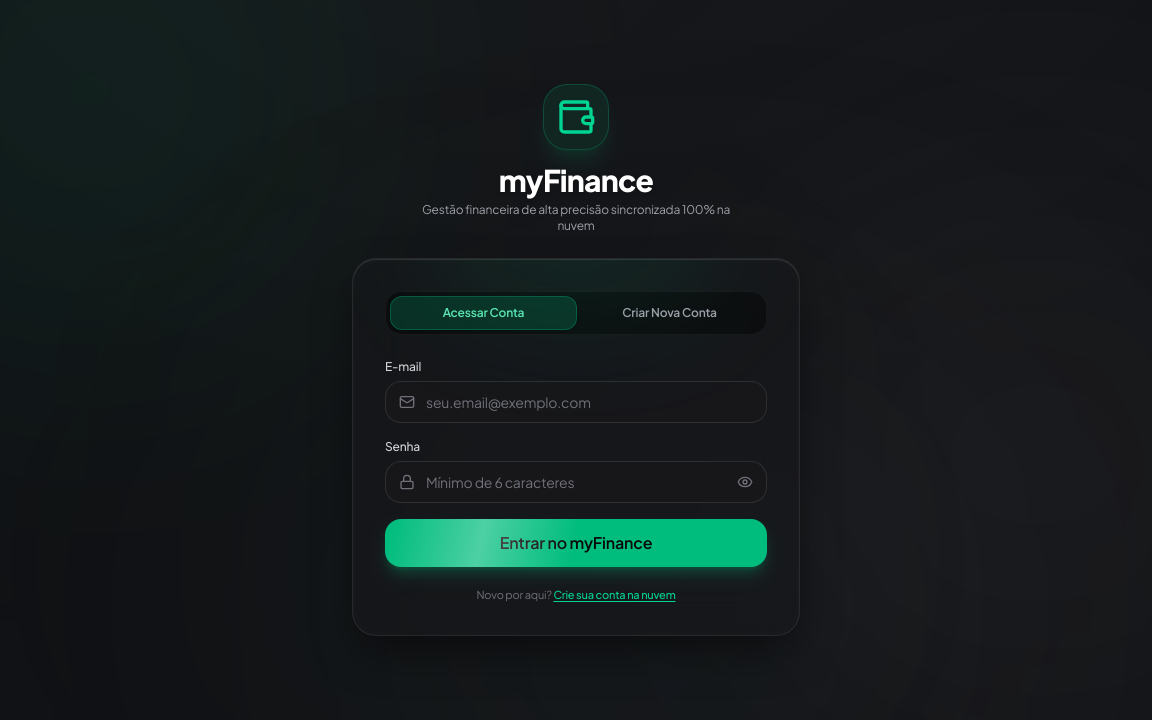
Test case: <AuthPage /> (Tela de Autenticação / Auth Gate) › deve exibir aviso contextual de senha muito curta, desabilitar formulário e reabilitar ao sair do aviso
Type "kendylopes@gmail.com" into the field labelled "E-mail" at point(576, 402), box [385, 381, 767, 423]
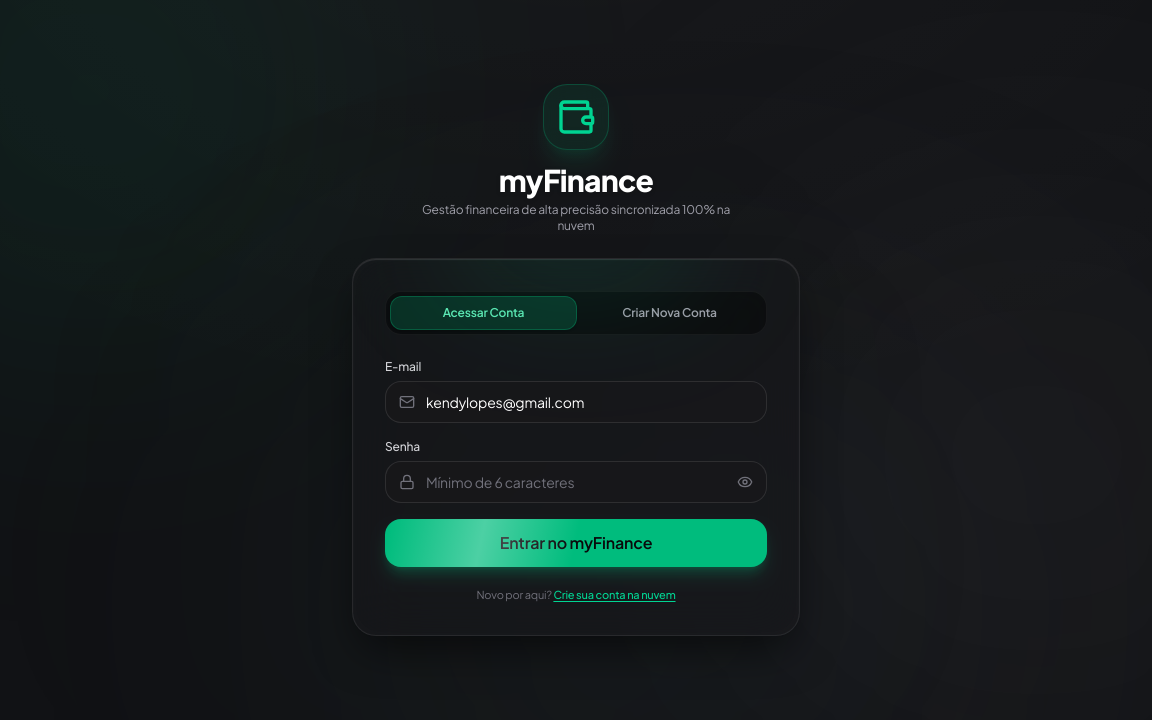
Type "12345" into the password field labelled "Senha" at point(576, 482), box [385, 461, 767, 503]
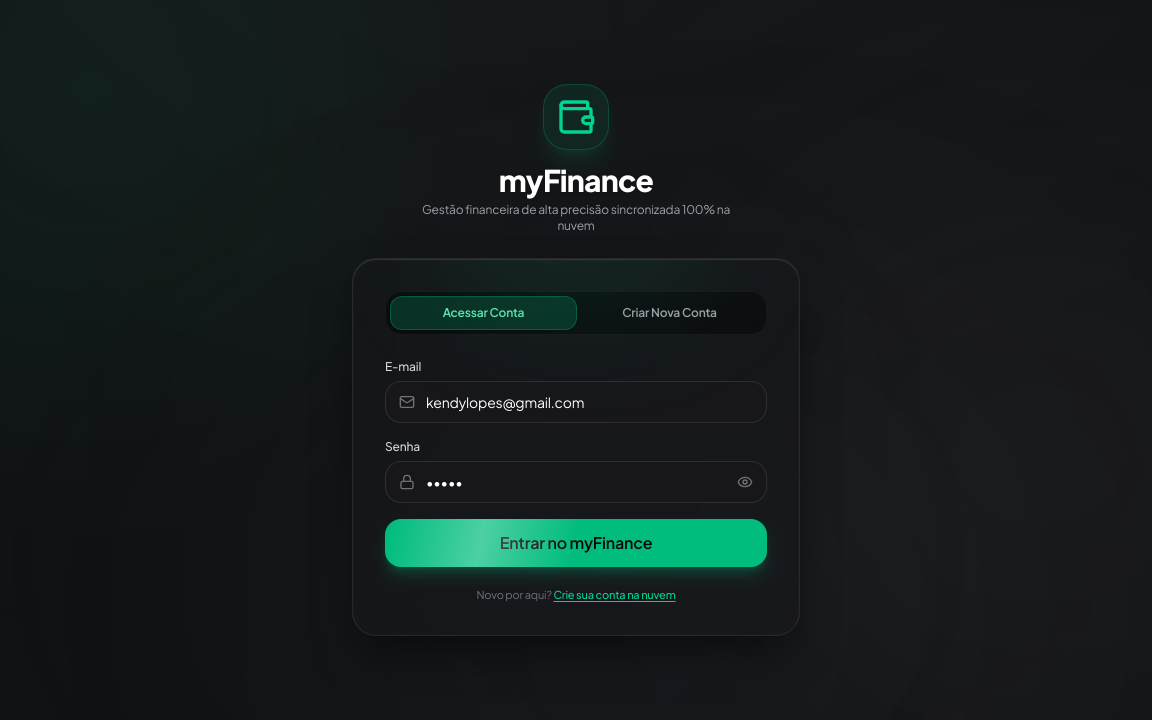
Click the button "Entrar no myFinance" at point(576, 543), box [385, 519, 767, 567]
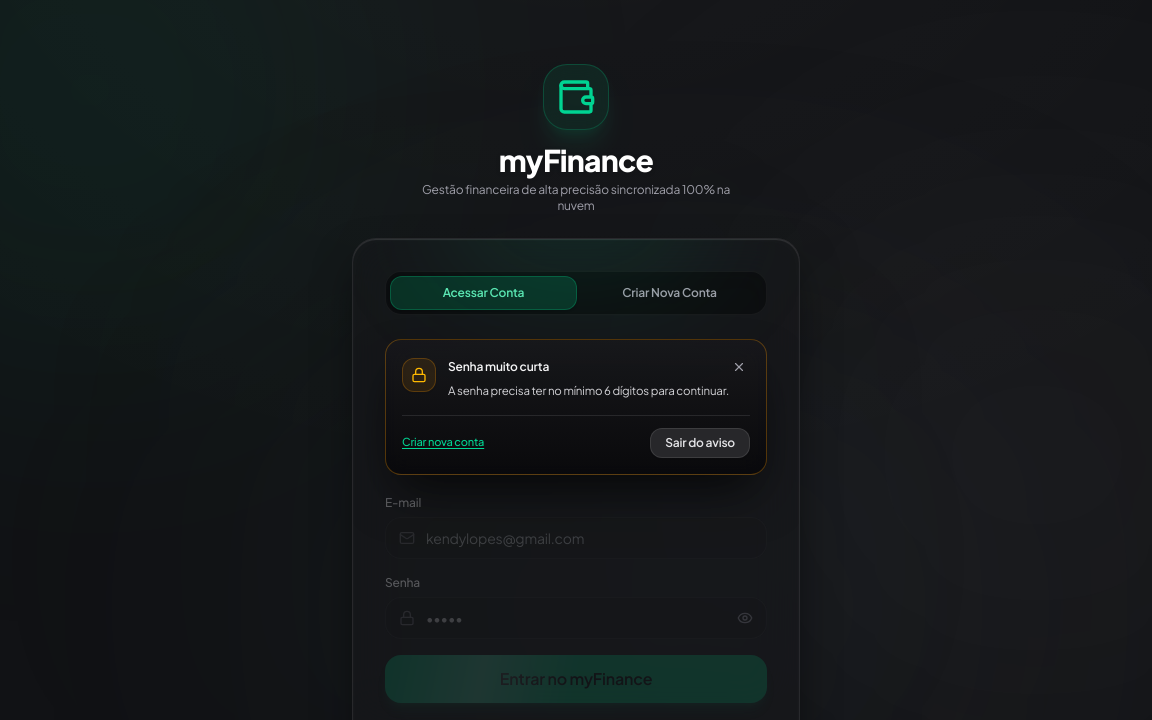
Check: the message is shown, box [385, 339, 767, 475]
Check: the heading "Senha muito curta" is shown, box [448, 359, 549, 375]
Check: the text "A senha precisa ter no mínimo 6 dígitos para continuar." is shown, box [448, 382, 750, 401]
// Clicar em "Sair do aviso" deve fechar o alerta e reabilitar os inputs
Click the button "Sair do aviso" at point(700, 443), box [650, 428, 750, 458]
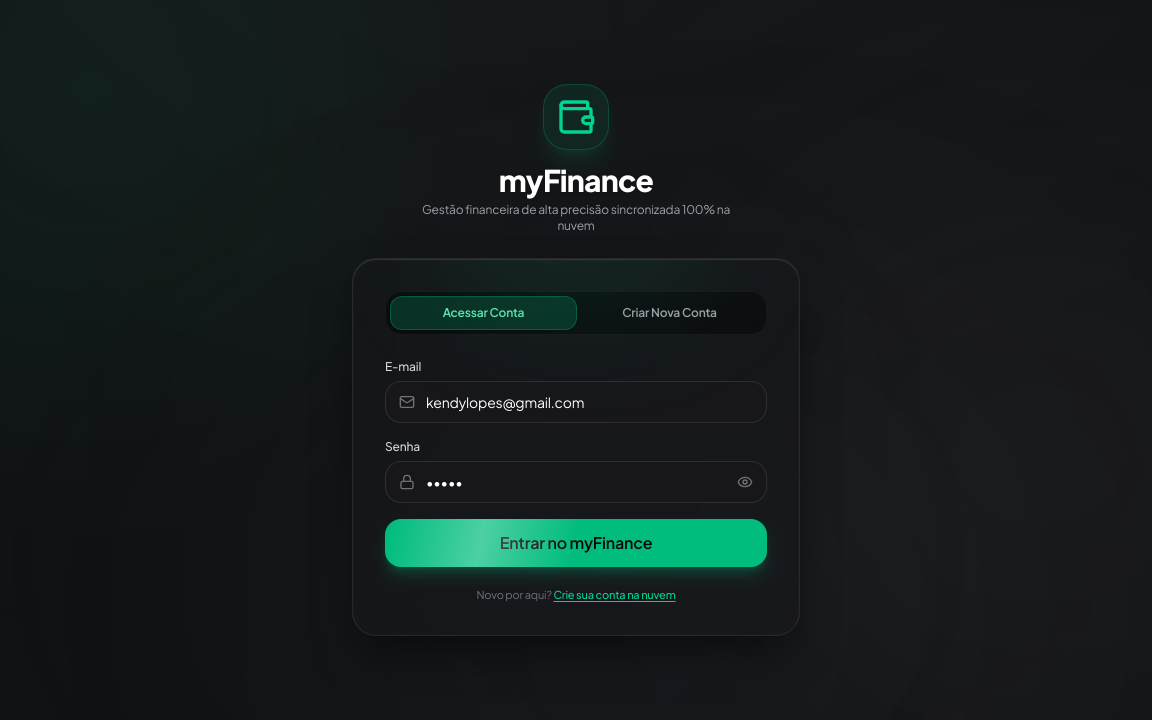
Check: the message "Senha muito curta A senha precisa ter no mínimo 6 dígitos para continuar. Criar" is gone
Check: the field labelled "E-mail" is enabled, box [385, 381, 767, 423]
Check: the password field labelled "Senha" is enabled, box [385, 461, 767, 503]
